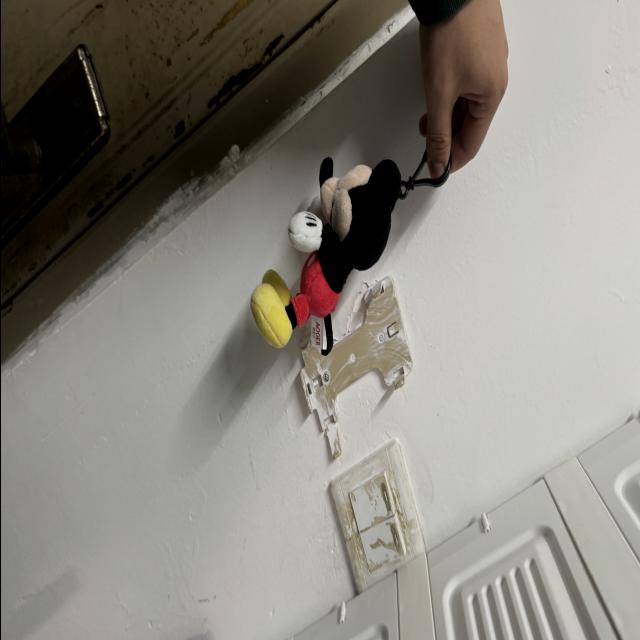mickey: (250, 159, 400, 355)
